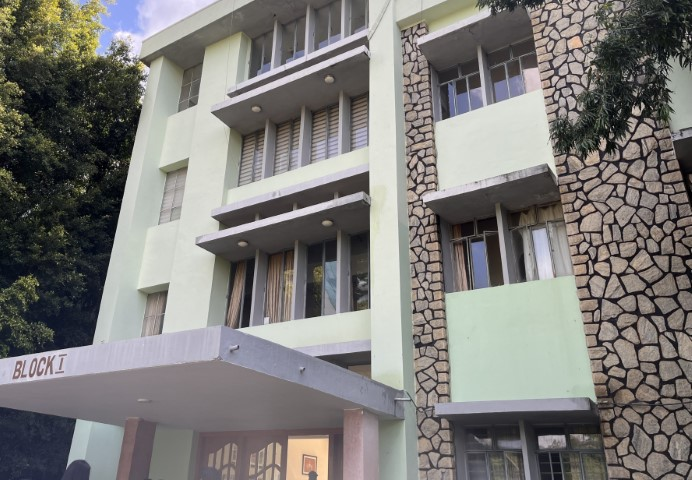Block 1: (121, 12, 692, 480)
